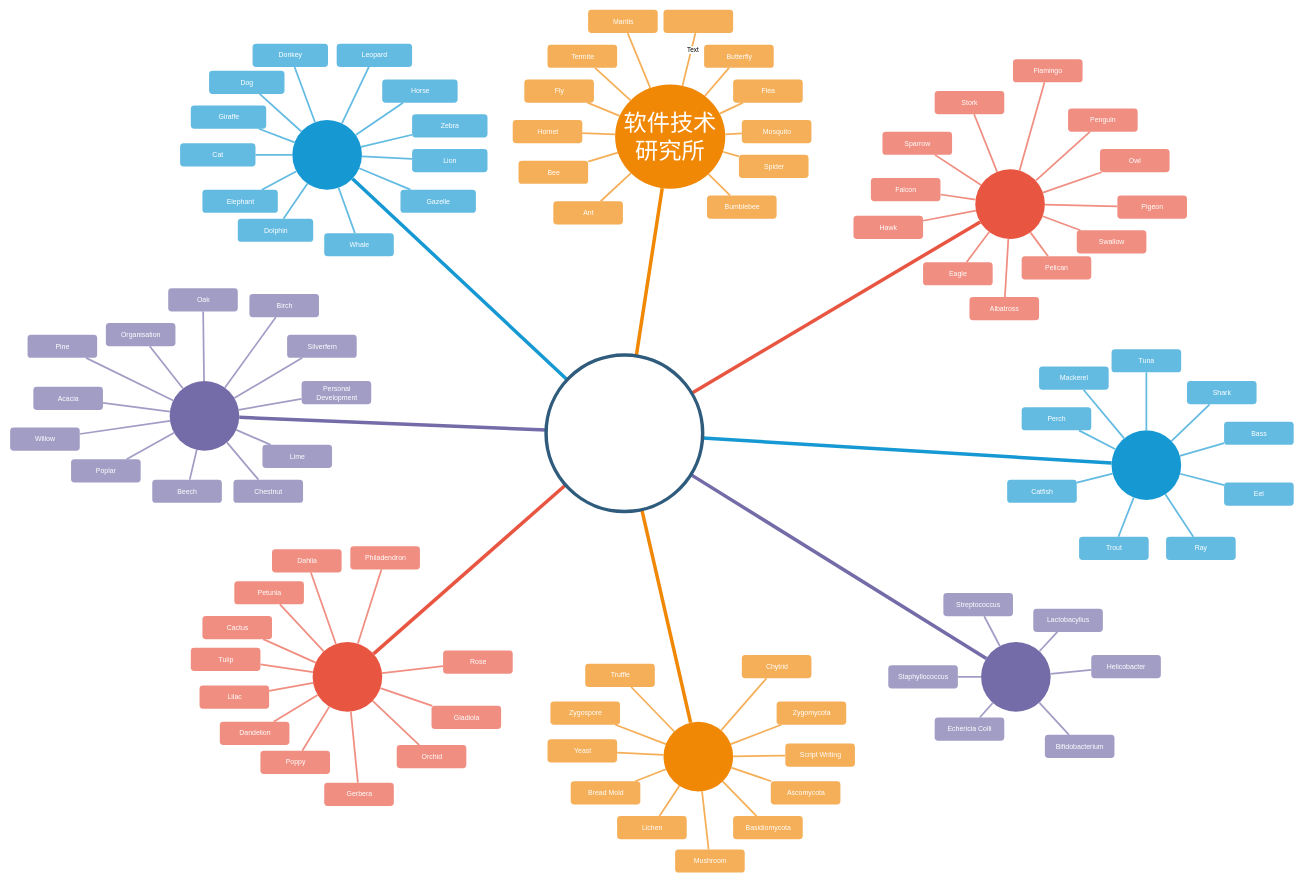
The diagram is 1303 pixels wide and 883 high, and some of its shapes have lost their labels. Each missing label, with the centre of its shape:
Bacteria: [1015,676]
Bird: [1010,204]
Fish: [1146,465]
Flower: [347,676]
Fungi: [698,756]
Ladybug: [698,21]
Mammal: [327,154]
Tree: [204,415]
Zebras: [624,433]
